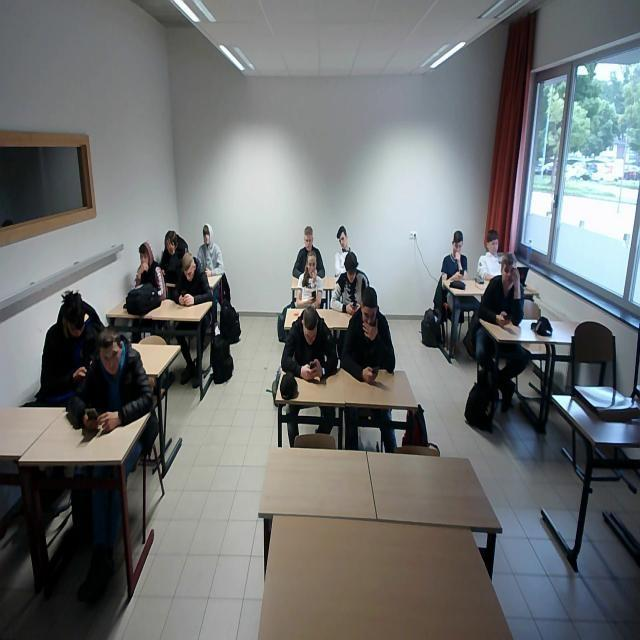phone_use: (66, 326, 152, 432), (35, 290, 101, 404), (340, 286, 393, 382), (280, 305, 336, 380), (331, 251, 367, 313), (173, 251, 210, 304), (294, 254, 322, 306), (159, 229, 186, 282), (440, 230, 465, 279)
